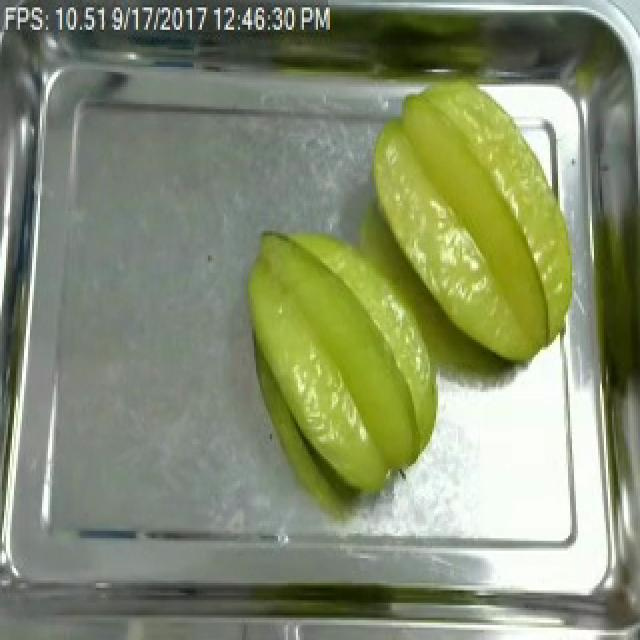fruit: (350, 67, 586, 377), (236, 211, 452, 508)
